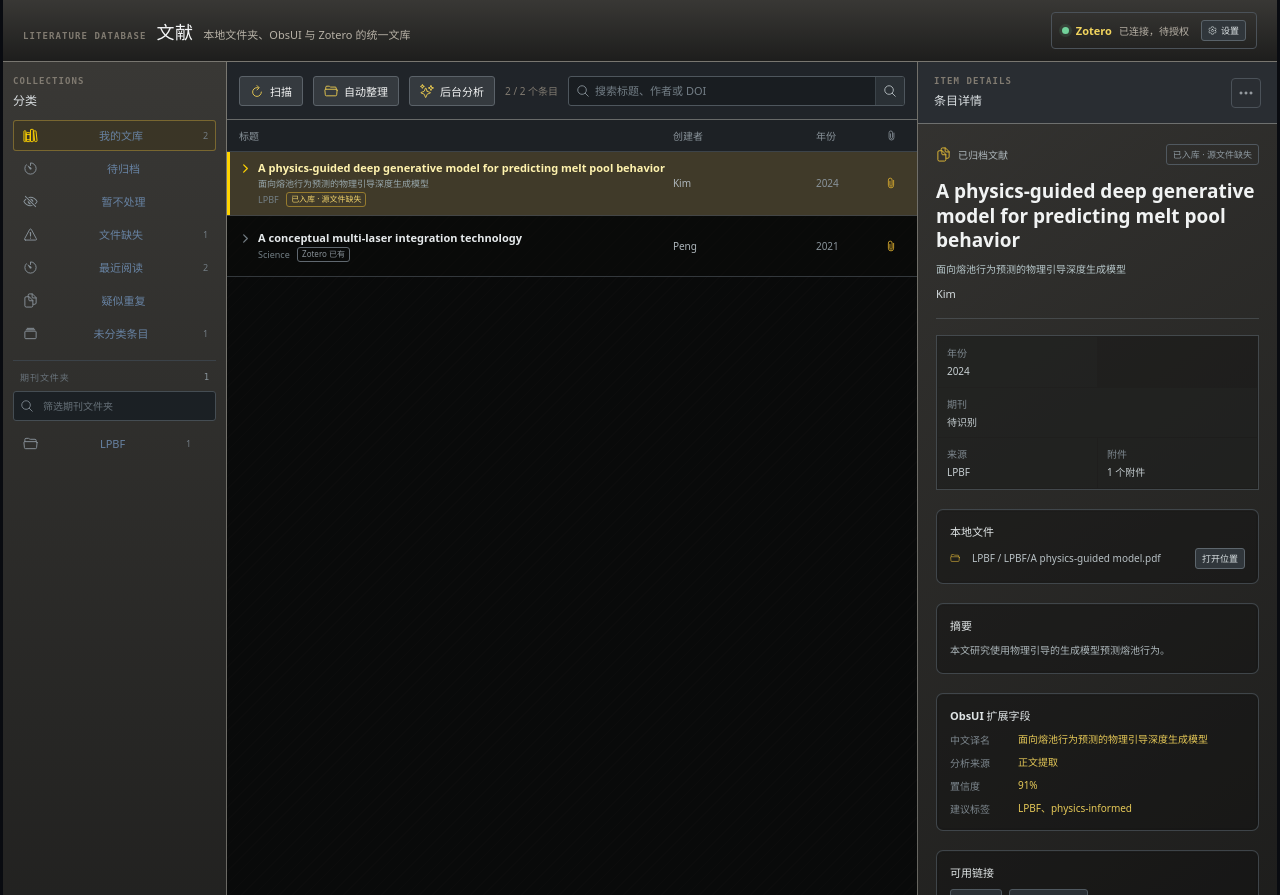
Test: 文献 V2 页面 › shows source-file loss without hiding the imported Zotero record
Expected: the number of options with class "literature-item-row" is 2, [227,152,917,216]; [227,216,917,277]
Click the button with class "literature-collection" showing "文件缺失 1". click: x=115, y=234
box: [13,219,216,250]
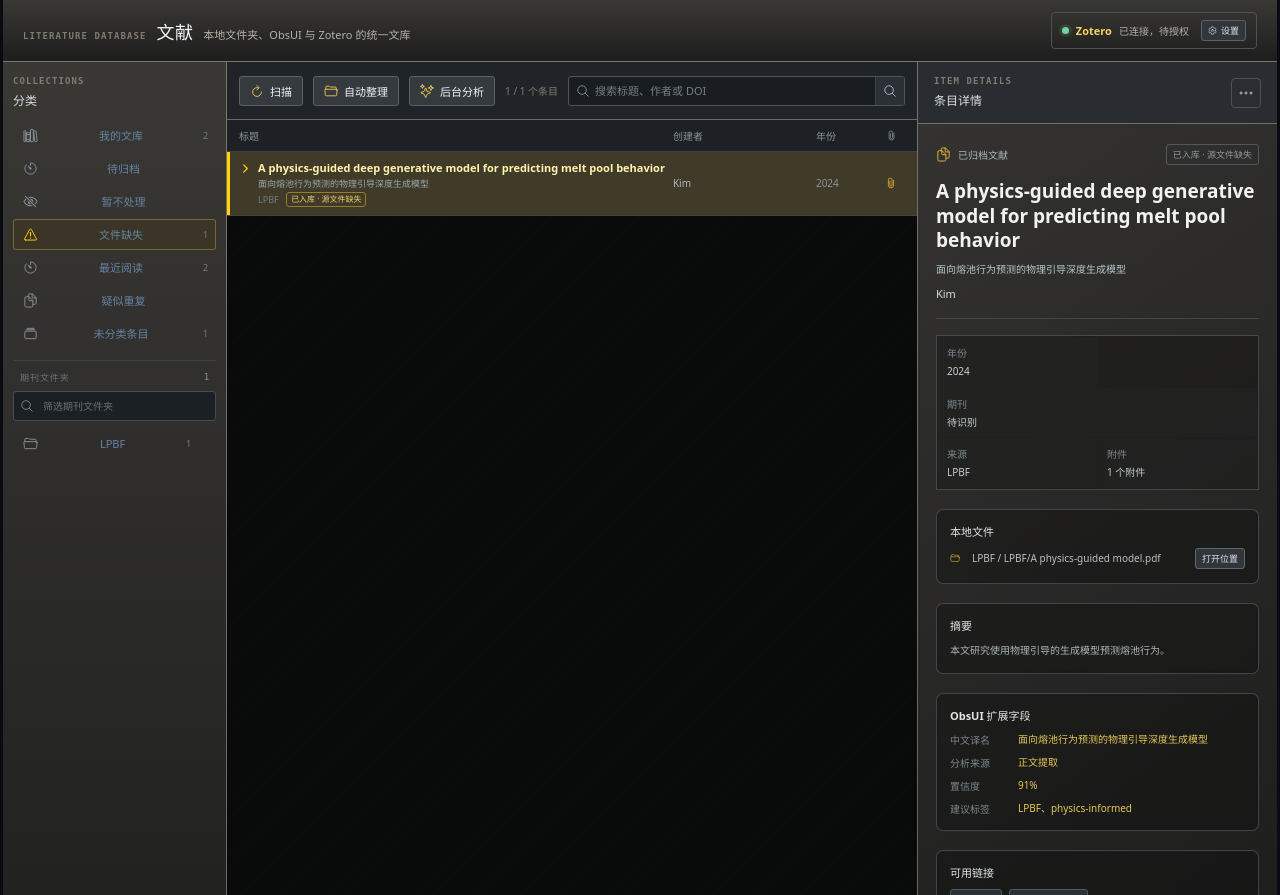
Expected: the text "已入库 · 源文件缺失" is shown, [286,192,366,207]
Expected: the number of options with class "literature-item-row" is 1, [227,152,917,216]
